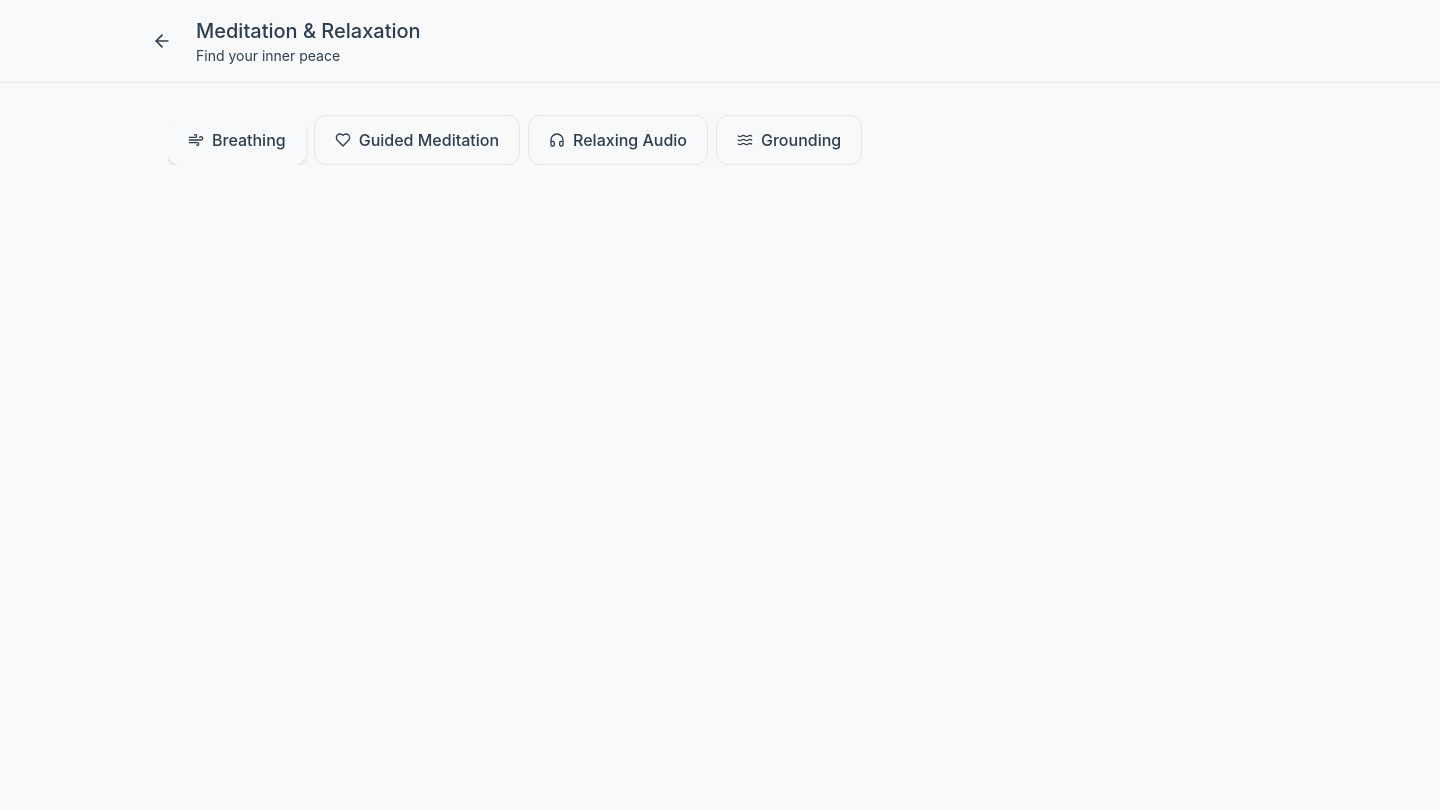
Test: MeditationPage › Guided Meditation › should toggle to Stop Session when a session is started
This screenshot has width=1440, height=810.
Click the button "Guided Meditation": coordinates (417, 140) [314,115,520,165]
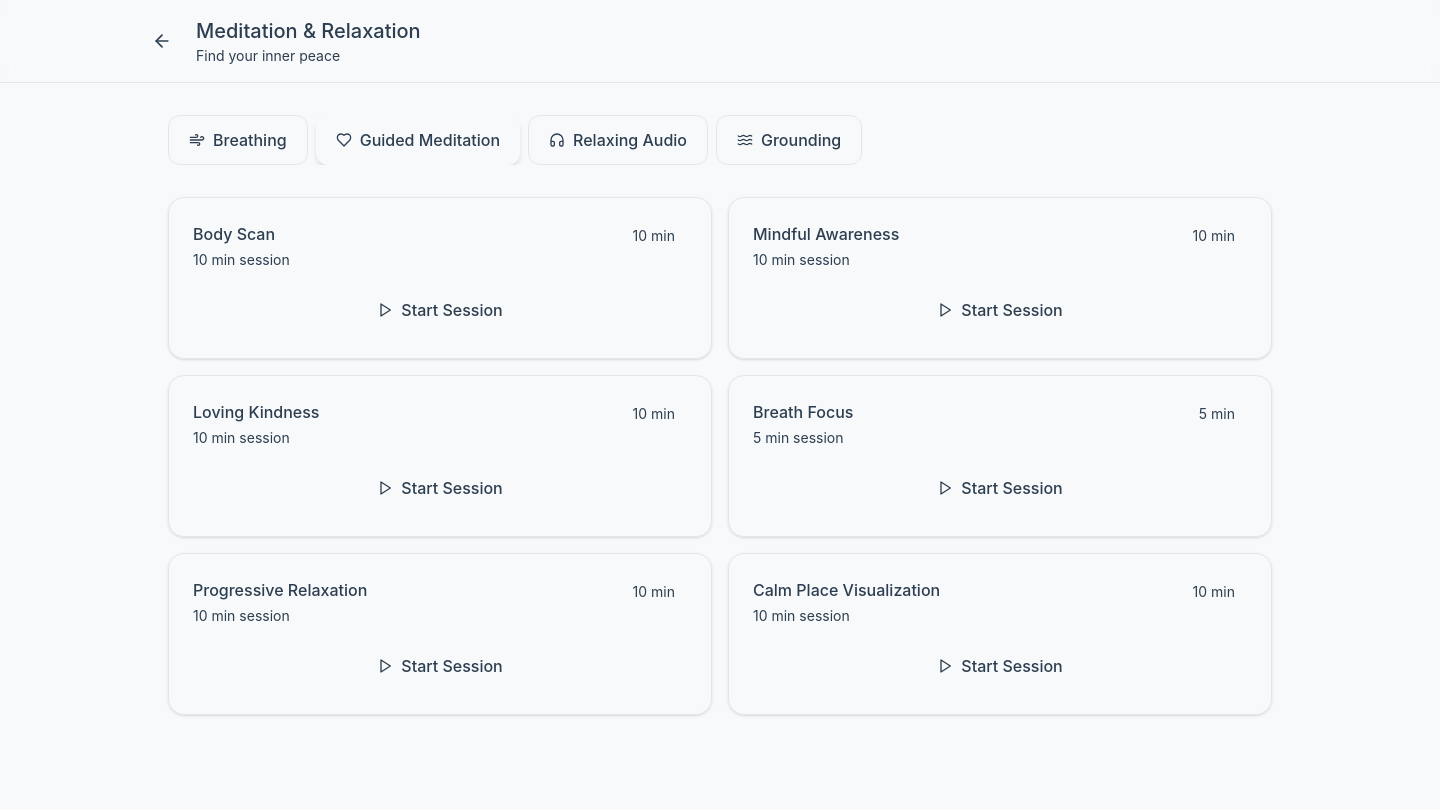
Expected: the heading "Body Scan" is shown, [193,224,275,244]
Click the button "Start Session" below "Body Scan": coordinates (440, 310) [193,286,687,334]
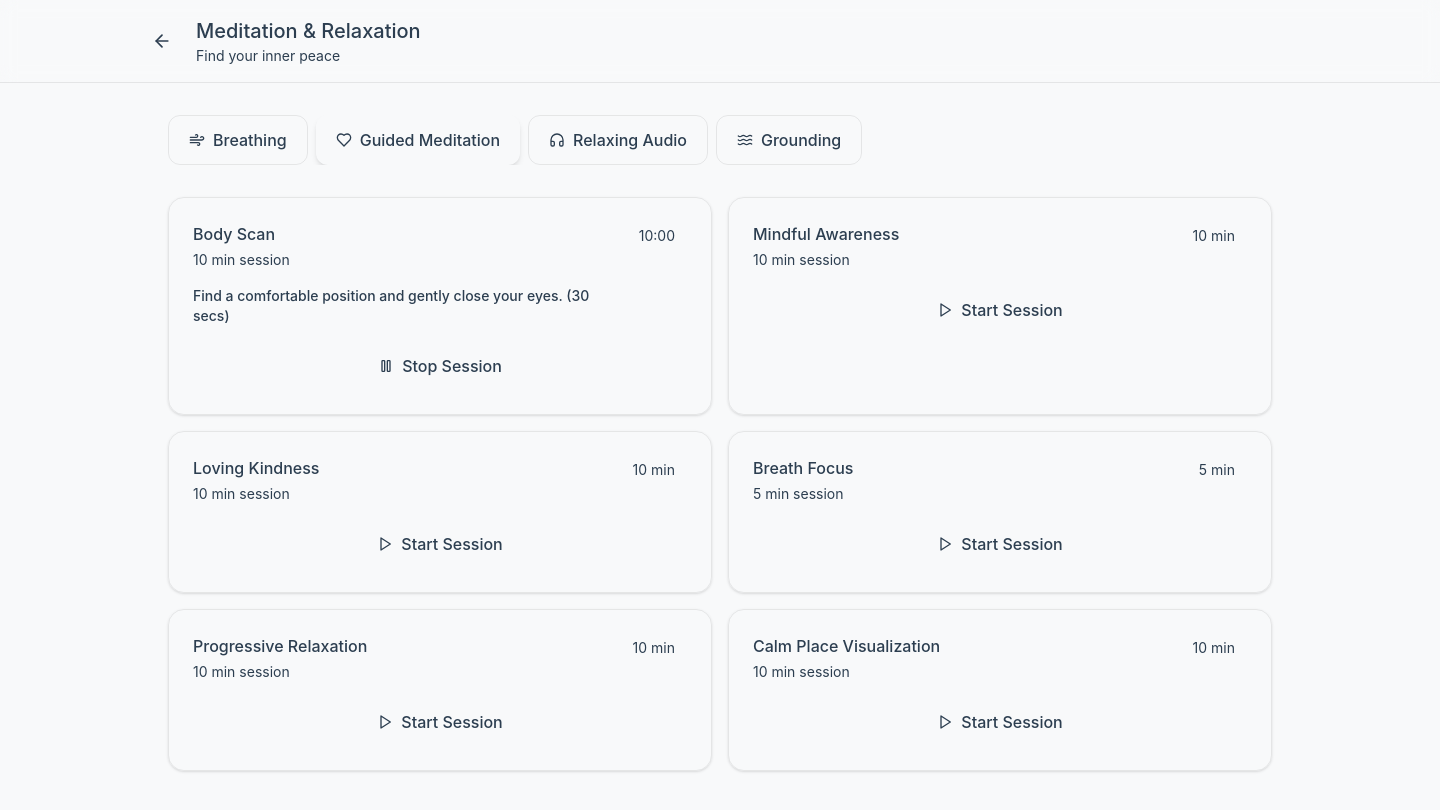
Expected: the button "Stop Session" is shown, [193,342,687,390]
